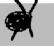not correct: (4, 0, 38, 42)
